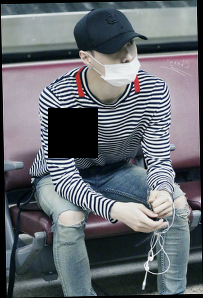mask_weared_incorrect: (94, 39, 139, 87)
